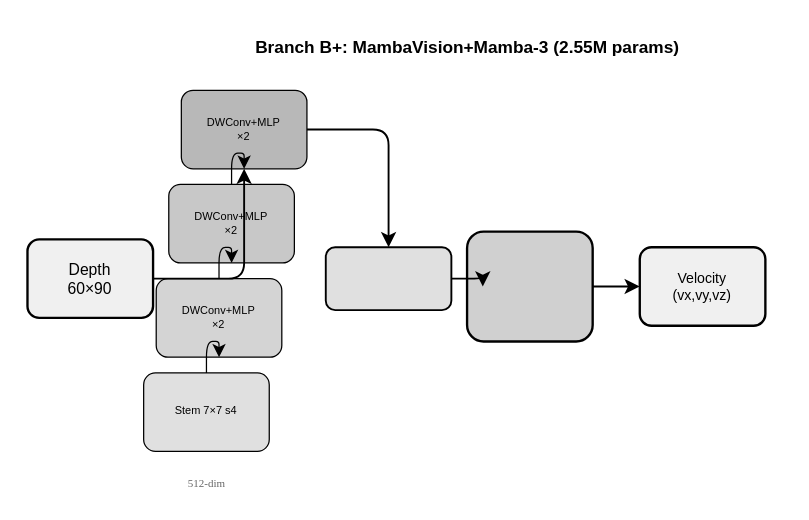
This 809x520 diagram has some shape labels left out. Here are the shapes that lost their labels. From the top down, the centre of each, then its label:
At [388,278]: "Concat +vel+quat".
At [529,286]: "Mamba-3 Exp-trap".
